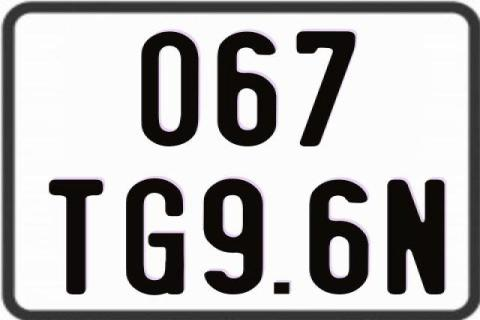0: (201, 177, 266, 296), (294, 29, 359, 147), (138, 31, 199, 149), (216, 31, 276, 146), (308, 177, 368, 292)
G: (126, 178, 189, 294)
N: (385, 177, 444, 293)
T: (48, 179, 106, 299)
